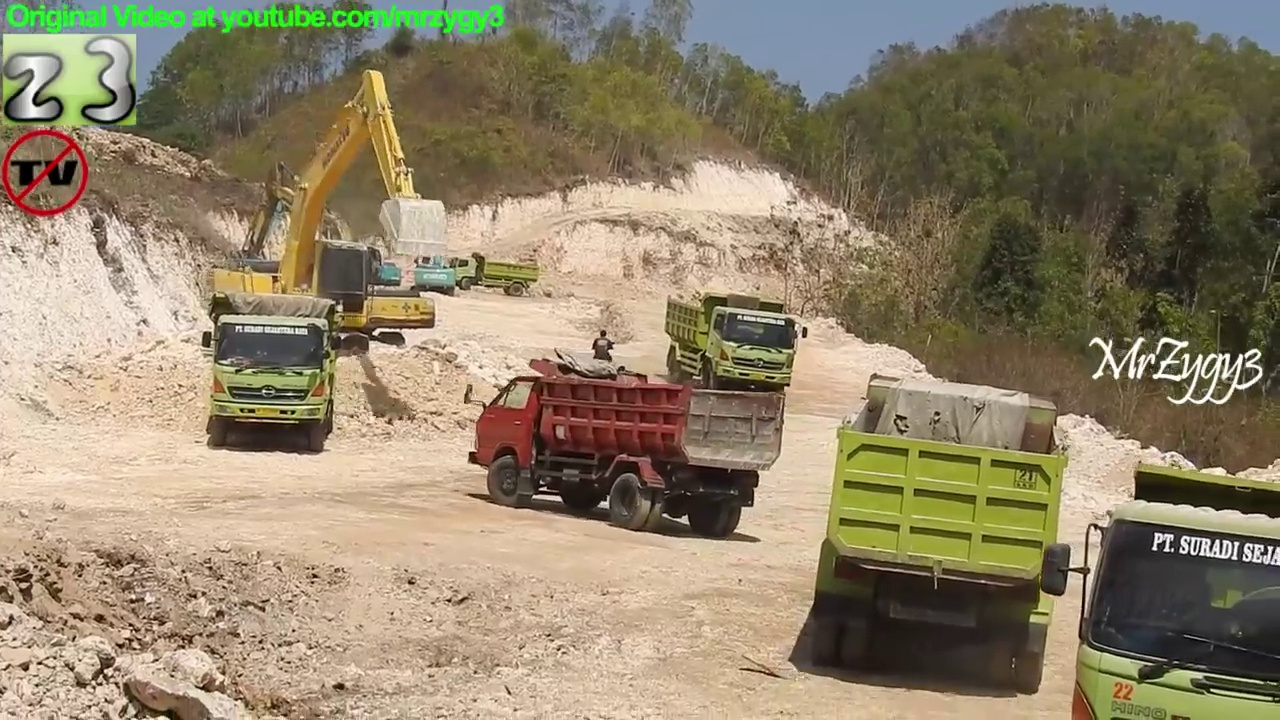excavator: (198, 64, 454, 367), (213, 162, 441, 357), (241, 192, 412, 317), (407, 202, 462, 298)
truck: (805, 368, 1072, 693), (1037, 455, 1277, 720), (462, 354, 792, 540), (203, 289, 343, 457), (658, 283, 813, 400), (444, 248, 541, 298)
